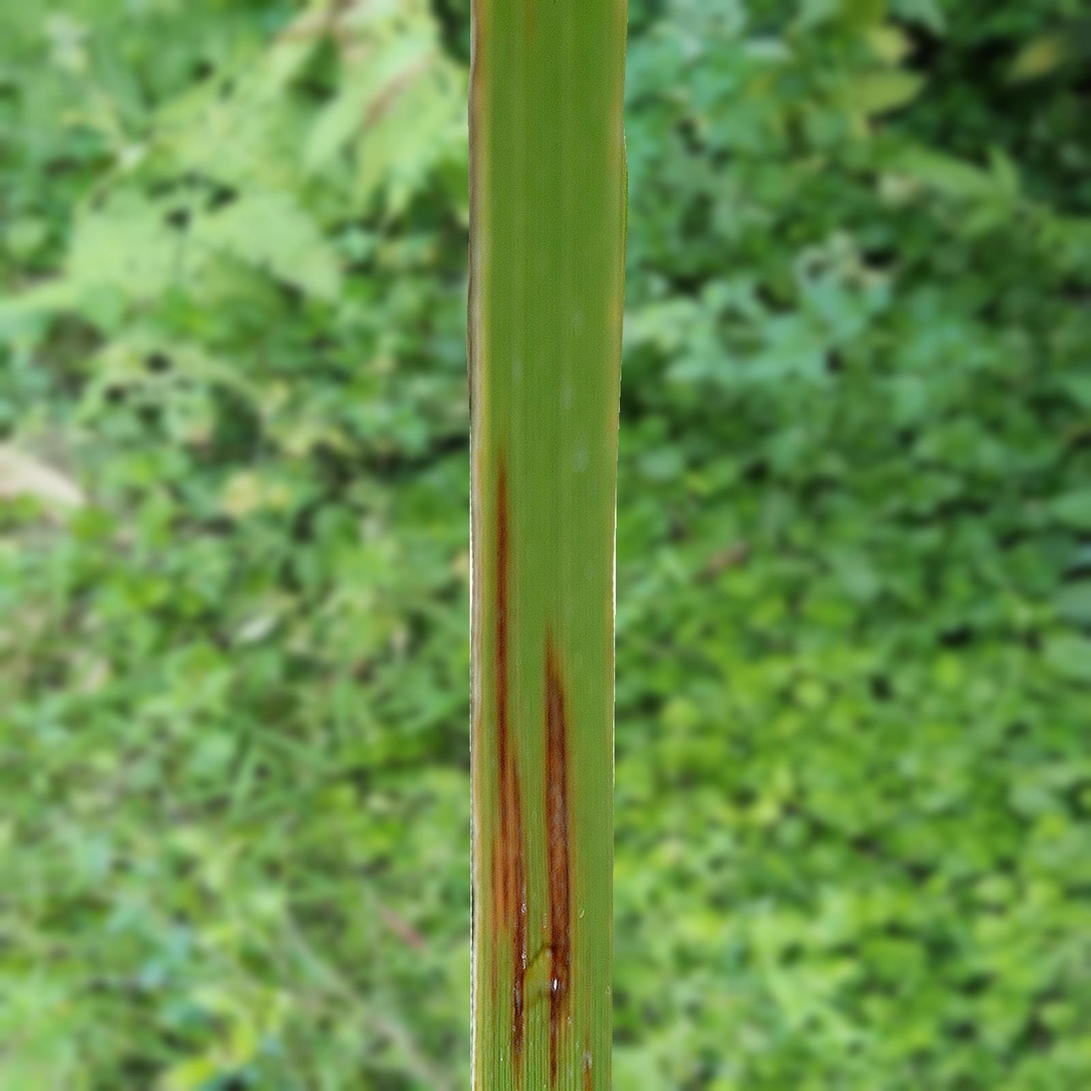LEAF: (466, 0, 628, 1090)
NBS: (494, 458, 526, 1073), (546, 636, 570, 1083)
